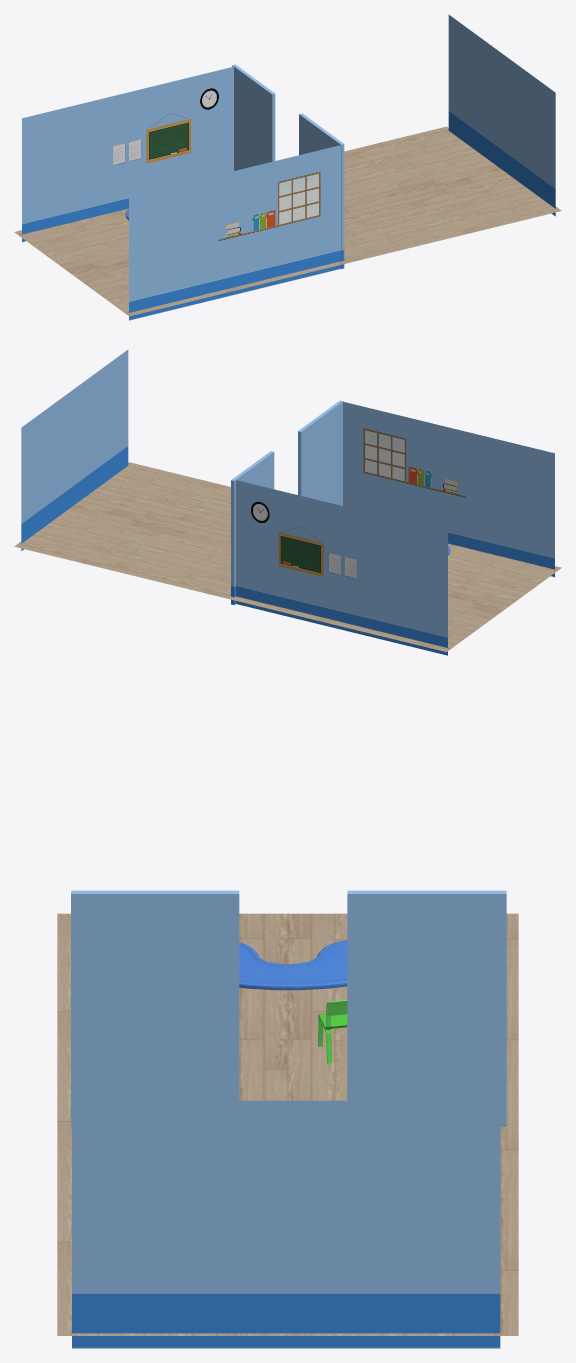
File: jiaoshi.fbx
The picture shows the model from 3 angles, top to bottom: view 1: azimuth 30°, elevation 25°; view 2: azimuth 150°, elevation 25°; view 3: azimuth 270°, elevation 25°; orthographic projection. The views are drawn at different scales.
Parts seen in each view (by area): view 1: jiaoshi, jiaoshi_dibang; view 2: jiaoshi, jiaoshi_dibang; view 3: jiaoshi, jiaoshi_dibang, zhuozi, yizi.
Part boxes in pixels (x1=…): jiaoshi: x1=22, y1=14, x2=555, y2=320; jiaoshi_dibang: x1=14, y1=126, x2=561, y2=316; jiaoshi: x1=21, y1=349, x2=554, y2=655; jiaoshi_dibang: x1=14, y1=462, x2=561, y2=651; jiaoshi: x1=71, y1=890, x2=506, y2=1348; jiaoshi_dibang: x1=57, y1=913, x2=518, y2=1335; zhuozi: x1=239, y1=940, x2=347, y2=990; yizi: x1=318, y1=1000, x2=347, y2=1063.
Size of the model in its own units: 48.76 by 13.38 by 22.52.
2 materials, 2 textured.
